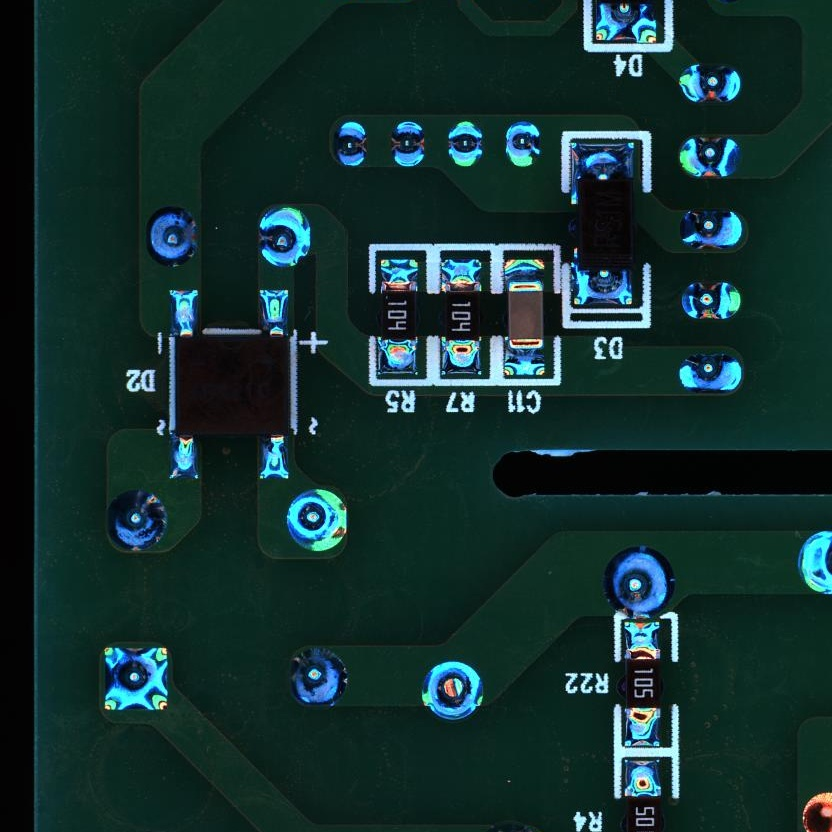spot: (603, 544, 675, 616), (103, 645, 168, 714), (104, 488, 170, 555), (284, 487, 350, 554), (419, 659, 484, 720), (255, 203, 312, 268), (289, 648, 349, 708), (145, 207, 197, 267), (675, 207, 741, 250), (679, 136, 742, 179), (677, 63, 742, 104), (678, 279, 742, 320), (679, 352, 744, 391), (447, 118, 484, 169), (503, 118, 540, 167), (332, 118, 369, 167), (389, 119, 426, 167)
